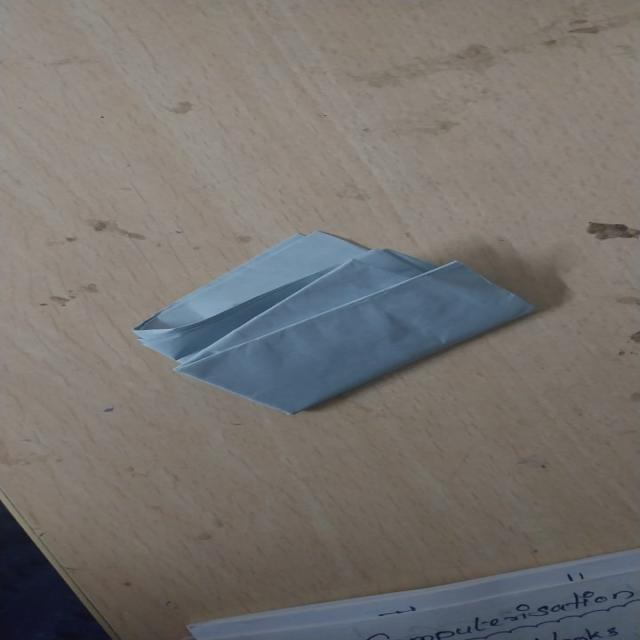Paper - Recyclable: (131, 230, 537, 416)
